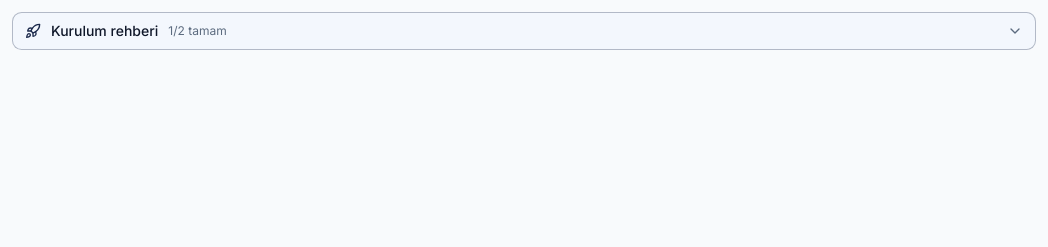
Test: OnboardingGuide katlama (UI) › şeride basınca kart GERİ AÇILIR ve bayrak temizlenir
The image size is (1048, 247).
Click the button "Kurulum rehberi 1/2 tamam". click: coordinates (105, 30)
box: x1=12 y1=12 x2=1036 y2=50
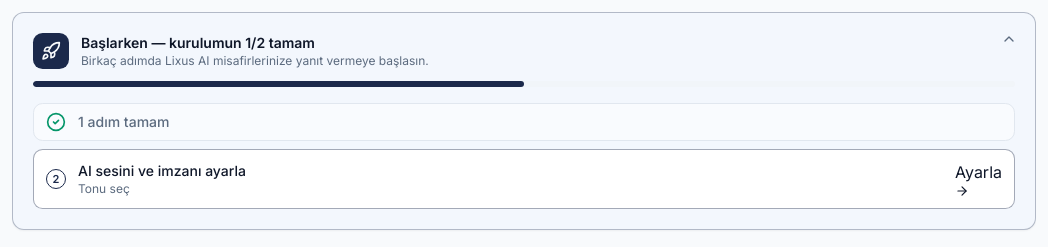
Now the text "Başlarken — kurulumun 1/2 tamam" is shown, box x1=81 y1=34 x2=315 y2=51
